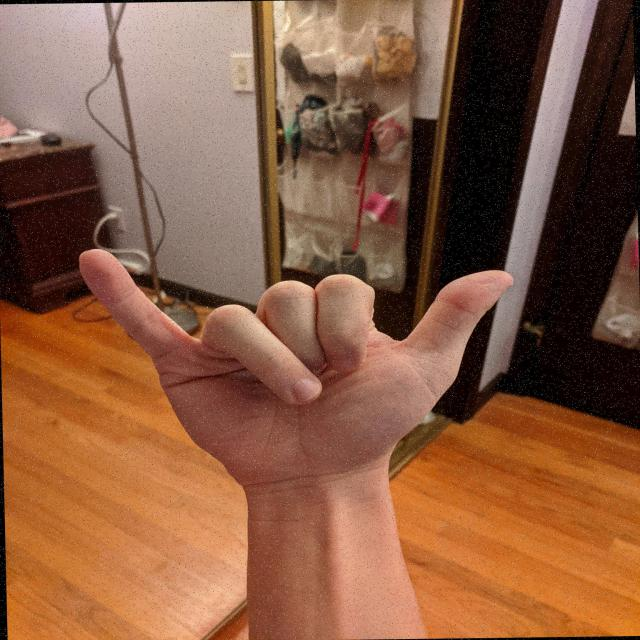Y: (74, 240, 525, 483)
